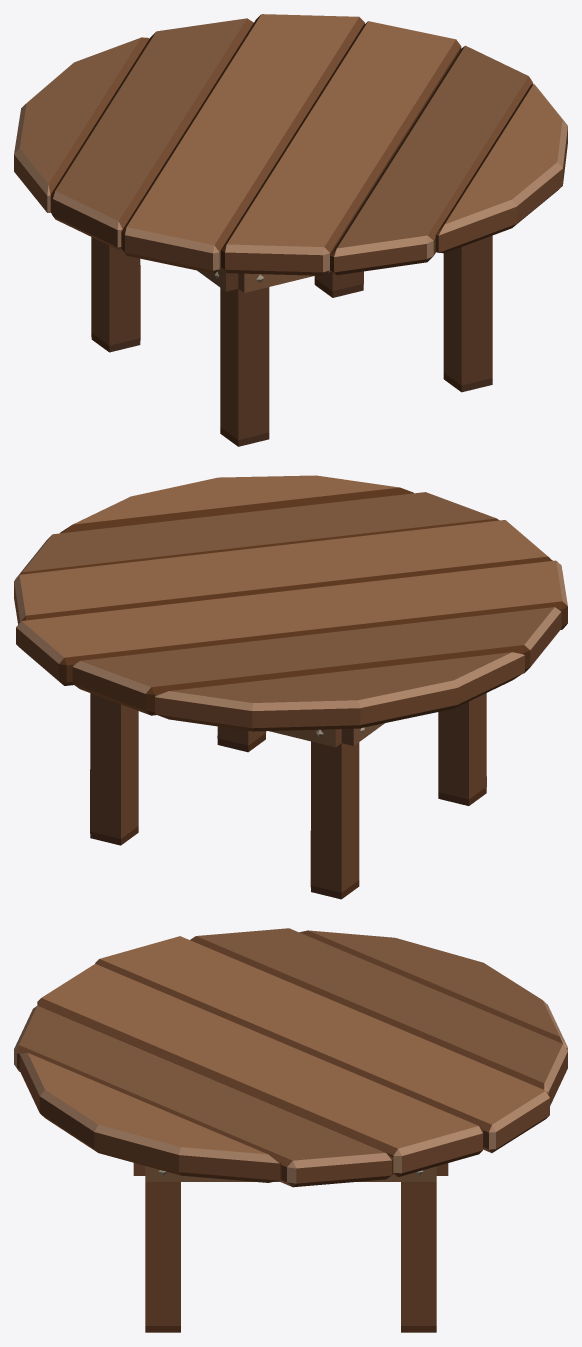
File: table_round.fbx
3 renders of one model, top to bottom at view 1: azimuth 30°, elevation 25°; view 2: azimuth 150°, elevation 25°; view 3: azimuth 270°, elevation 25°, orthographic.
Parts seen in each view (by area): view 1: table_round; view 2: table_round; view 3: table_round.
Boxes of the visible parts, box(x1,y1,x2,y2) form: table_round: box(14, 14, 567, 446); table_round: box(14, 475, 567, 899); table_round: box(14, 928, 567, 1332).
Size of the model in its own units: 176 by 80 by 176.
